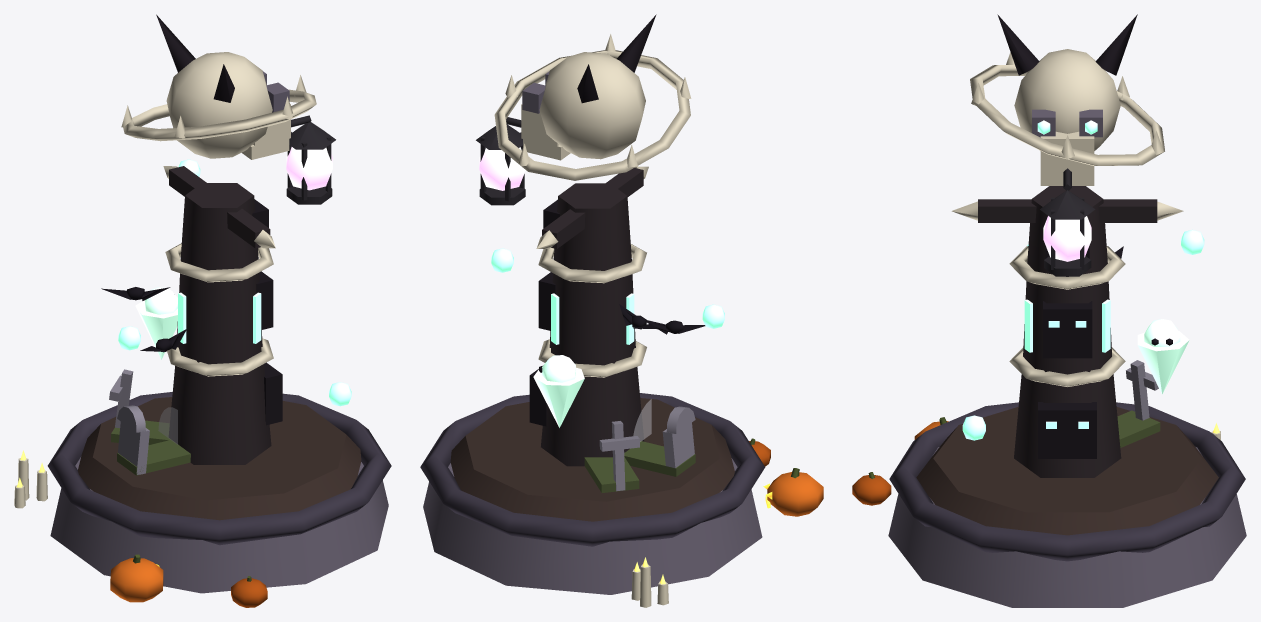
Rendered from tower_necromancer_soulKeeper.glb.
3 views of the same model, side by side, from view 1: azimuth 30°, elevation 25°; view 2: azimuth 150°, elevation 25°; view 3: azimuth 270°, elevation 25° (orthographic). The views are drawn at different scales.
Parts seen in each view (by area): view 1: grave_soil, base, base_rim, pole_0, skull_cranium, pole_1, pole_2, bone_orbit, deco_hw_jack_body, bone_ring_1, crossbar, core_halo (+17 smaller); view 2: grave_soil, base, base_rim, skull_cranium, pole_0, pole_1, pole_2, bone_orbit, deco_hw_jack_body, bone_ring_1, crossbar, deco_hw_ghost_sheet (+17 smaller); view 3: grave_soil, base, base_rim, skull_cranium, pole_0, pole_1, bone_orbit, pole_face_0, crossbar, pole_2, pole_face_1, bone_ring_1 (+14 smaller).
Part boxes in pixels (x1,y1,x2,y2): grave_soil: (78,397,361,520); base: (50,457,388,593); base_rim: (47,392,391,545); pole_0: (168,364,271,464); skull_cranium: (166,52,272,158); pole_1: (177,258,262,364); pole_2: (180,183,258,270); bone_orbit: (123,89,316,141); deco_hw_jack_body: (110,558,163,602); bone_ring_1: (165,243,273,282); crossbar: (169,166,270,248); core_halo: (286,147,332,190); grave_soil: (450,398,734,521); base: (423,458,762,594); base_rim: (420,393,765,546); skull_cranium: (539,52,645,159); pole_0: (541,367,644,466); pole_1: (549,259,635,365); pole_2: (553,183,631,270); bone_orbit: (494,50,690,180); deco_hw_jack_body: (767,472,823,516); bone_ring_1: (538,244,646,283); crossbar: (542,168,643,248); deco_hw_ghost_sheet: (533,367,584,427); grave_soil: (916,406,1218,535); base: (888,447,1246,607); base_rim: (889,402,1245,561); skull_cranium: (1014,49,1120,150); pole_0: (1014,374,1121,477); pole_1: (1023,265,1111,374); bone_orbit: (970,64,1164,165); pole_face_0: (1038,402,1096,458); crossbar: (978,199,1157,222); pole_2: (1027,186,1107,276); pole_face_1: (1043,301,1092,358); bone_ring_1: (1009,246,1125,289).
Bounding box in the file's own units: 0.4215 × 0.6242 × 0.4404.
